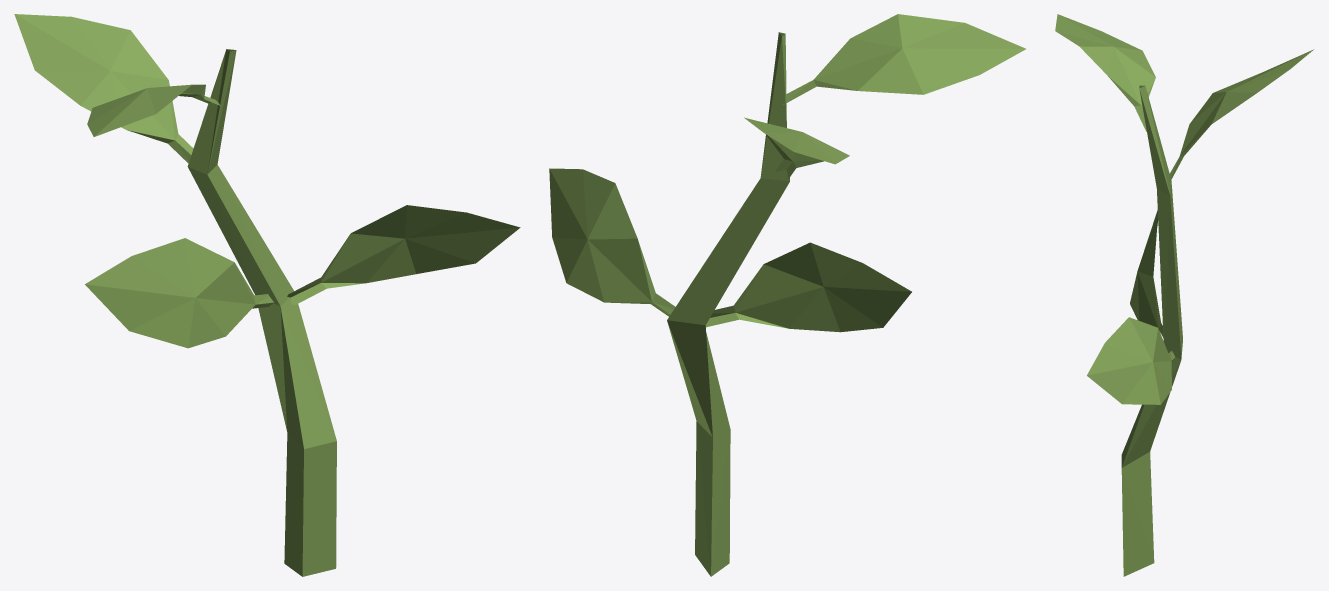
File: Apple_1_2.fbx
The picture shows the model from 3 angles, left to right: view 1: azimuth 30°, elevation 25°; view 2: azimuth 150°, elevation 25°; view 3: azimuth 270°, elevation 25°; orthographic projection. The views are drawn at different scales.
Visible parts, largest first — view 1: Apple_1_2; view 2: Apple_1_2; view 3: Apple_1_2.
Part boxes in pixels (x1=…): Apple_1_2: x1=14, y1=14, x2=520, y2=576; Apple_1_2: x1=549, y1=14, x2=1025, y2=576; Apple_1_2: x1=1055, y1=14, x2=1314, y2=576.
Bounding box in the file's own units: 62.79 × 73.61 × 37.63.
